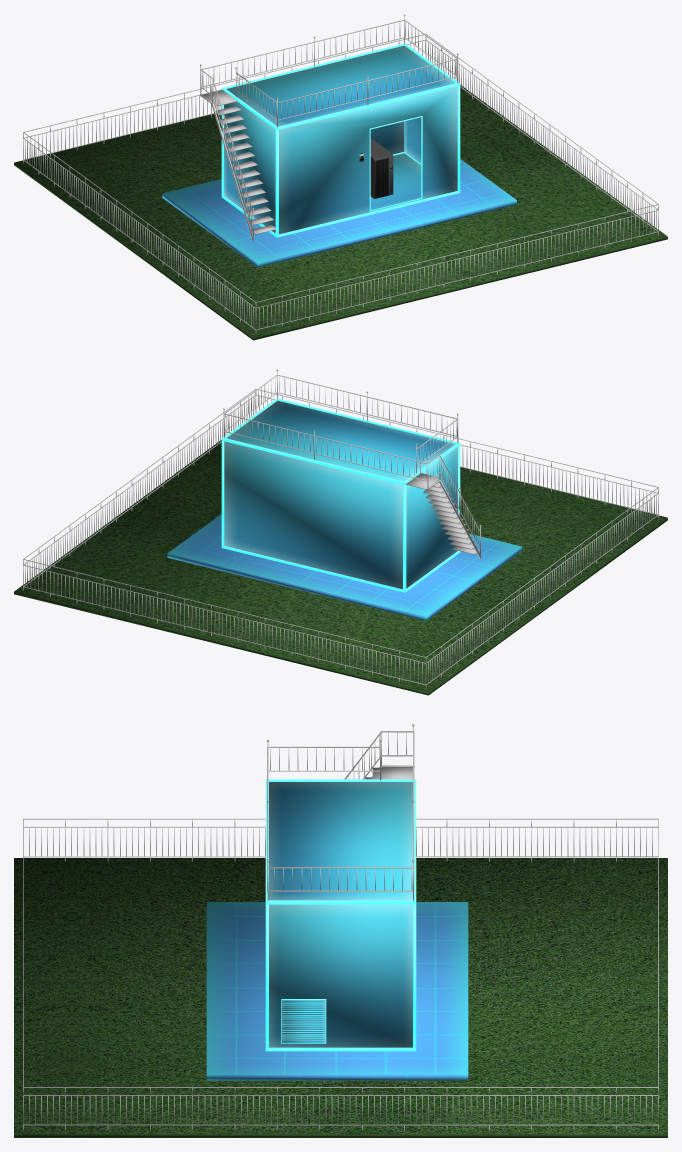
Rendered from outside.glb.
3 renders of one model, top to bottom at view 1: azimuth 30°, elevation 25°; view 2: azimuth 150°, elevation 25°; view 3: azimuth 270°, elevation 25°, orthographic. The views are drawn at different scales.
Visible parts, largest first — view 1: Box002.001, Rectangle011.001, object 5, Box004.001, Box094.001, Box095.001, Plane002.001, Rectangle001.001, Rectangle010.001, Rectangle002.001, Box093.001, Rectangle003.001 (+8 smaller); view 2: Box002.001, Box097.001, object 5, Box004.001, Box094.001, Box095.001, Rectangle001.001, Plane002.001, Rectangle010.001, Rectangle002.001, Rectangle003.001, Line002.001 (+2 smaller); view 3: Box002.001, Box004.001, Box096.001, Box094.001, object 5, Rectangle003.001, Rectangle001.001, Rectangle010.001, Rectangle002.001, Line002.001, Box005.001, Rectangle009.001 (+1 smaller).
Part boxes in pixels (x1=…): Box002.001: x1=14, y1=85, x2=667, y2=340; Rectangle011.001: x1=279, y1=86, x2=457, y2=234; object 5: x1=23, y1=36, x2=658, y2=333; Box004.001: x1=162, y1=159, x2=516, y2=267; Box094.001: x1=226, y1=45, x2=455, y2=126; Box095.001: x1=224, y1=101, x2=275, y2=233; Plane002.001: x1=202, y1=90, x2=275, y2=234; Rectangle001.001: x1=23, y1=34, x2=658, y2=302; Rectangle010.001: x1=221, y1=43, x2=460, y2=130; Rectangle002.001: x1=23, y1=39, x2=658, y2=308; Box093.001: x1=370, y1=153, x2=421, y2=210; Rectangle003.001: x1=23, y1=86, x2=658, y2=330; Box002.001: x1=14, y1=440, x2=667, y2=695; Box097.001: x1=224, y1=441, x2=402, y2=589; object 5: x1=23, y1=391, x2=658, y2=688; Box004.001: x1=167, y1=514, x2=522, y2=620; Box094.001: x1=226, y1=400, x2=455, y2=481; Box095.001: x1=406, y1=447, x2=457, y2=588; Rectangle001.001: x1=23, y1=389, x2=658, y2=657; Plane002.001: x1=406, y1=473, x2=479, y2=554; Rectangle010.001: x1=221, y1=398, x2=460, y2=485; Rectangle002.001: x1=23, y1=394, x2=658, y2=663; Rectangle003.001: x1=23, y1=441, x2=658, y2=685; Line002.001: x1=224, y1=374, x2=480, y2=531; Box002.001: x1=14, y1=858, x2=667, y2=1137; Box004.001: x1=206, y1=902, x2=468, y2=1080; Box096.001: x1=269, y1=904, x2=412, y2=1047; Box094.001: x1=269, y1=782, x2=412, y2=900; object 5: x1=23, y1=819, x2=658, y2=1130; Rectangle003.001: x1=23, y1=856, x2=658, y2=1125; Rectangle001.001: x1=23, y1=818, x2=658, y2=1087; Rectangle010.001: x1=265, y1=779, x2=416, y2=904; Rectangle002.001: x1=23, y1=826, x2=658, y2=1095; Line002.001: x1=267, y1=731, x2=414, y2=868; Box005.001: x1=281, y1=999, x2=326, y2=1043; Rectangle009.001: x1=265, y1=1047, x2=416, y2=1051.
Size of the model in its own units: 19.67 by 6.63 by 19.67.
Materials: 10 (7 with a texture image).
